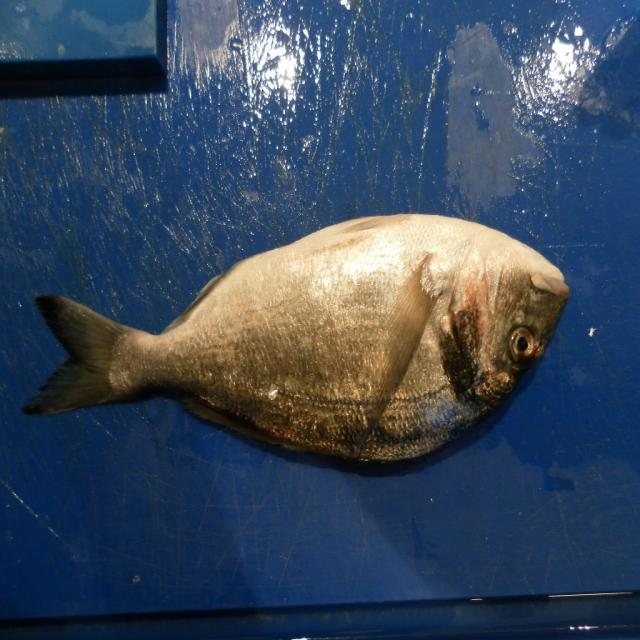Gilt-Head-Bream-c-ipura-: (21, 214, 570, 470)
